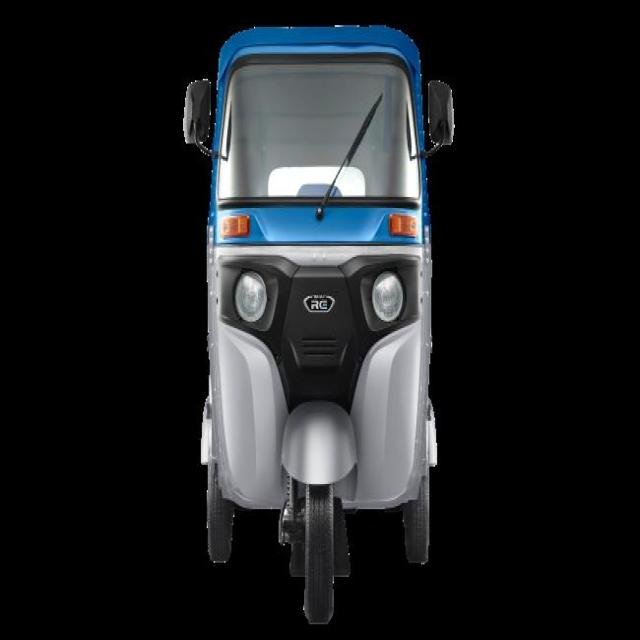autorickshaw: (184, 28, 436, 624)
